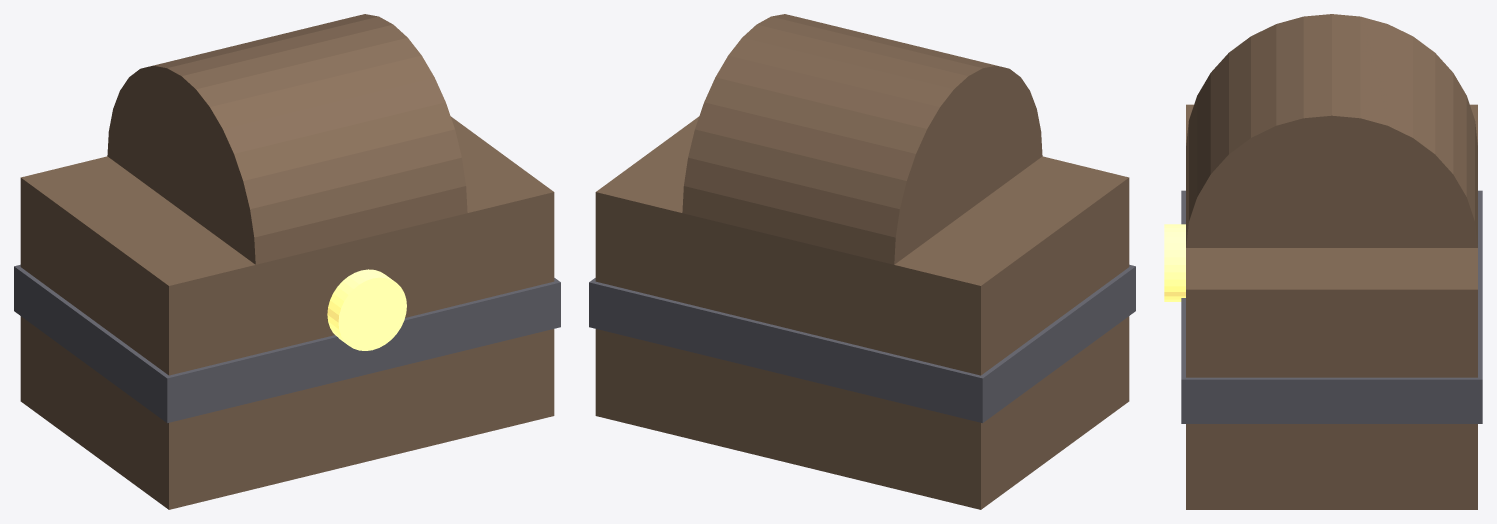
The model's file is treasure_chest.glb.
3 views of the same model, side by side, from view 1: azimuth 30°, elevation 25°; view 2: azimuth 150°, elevation 25°; view 3: azimuth 270°, elevation 25° (orthographic).
Parts seen in each view (by area): view 1: Cube, Cylinder, Cube.001, Cylinder.001; view 2: Cube, Cylinder, Cube.001; view 3: Cube, Cylinder, Cube.001, Cylinder.001.
Part boxes in pixels (<box>): Cube: <box>20,116,554,509</box>; Cylinder: <box>107,14,467,264</box>; Cube.001: <box>14,264,560,423</box>; Cylinder.001: <box>327,269,406,350</box>; Cube: <box>595,116,1129,509</box>; Cylinder: <box>682,14,1042,264</box>; Cube.001: <box>589,264,1135,423</box>; Cube: <box>1186,104,1477,509</box>; Cylinder: <box>1186,14,1477,247</box>; Cube.001: <box>1181,190,1482,423</box>; Cylinder.001: <box>1164,224,1185,301</box>.
Size of the model in its own units: 0.92 by 0.8 by 0.655.
